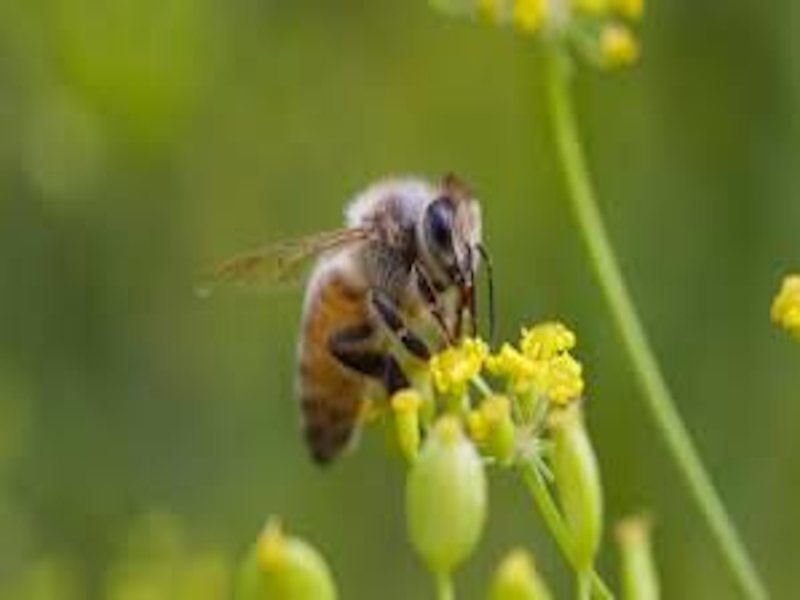abeja: (205, 148, 510, 488)
